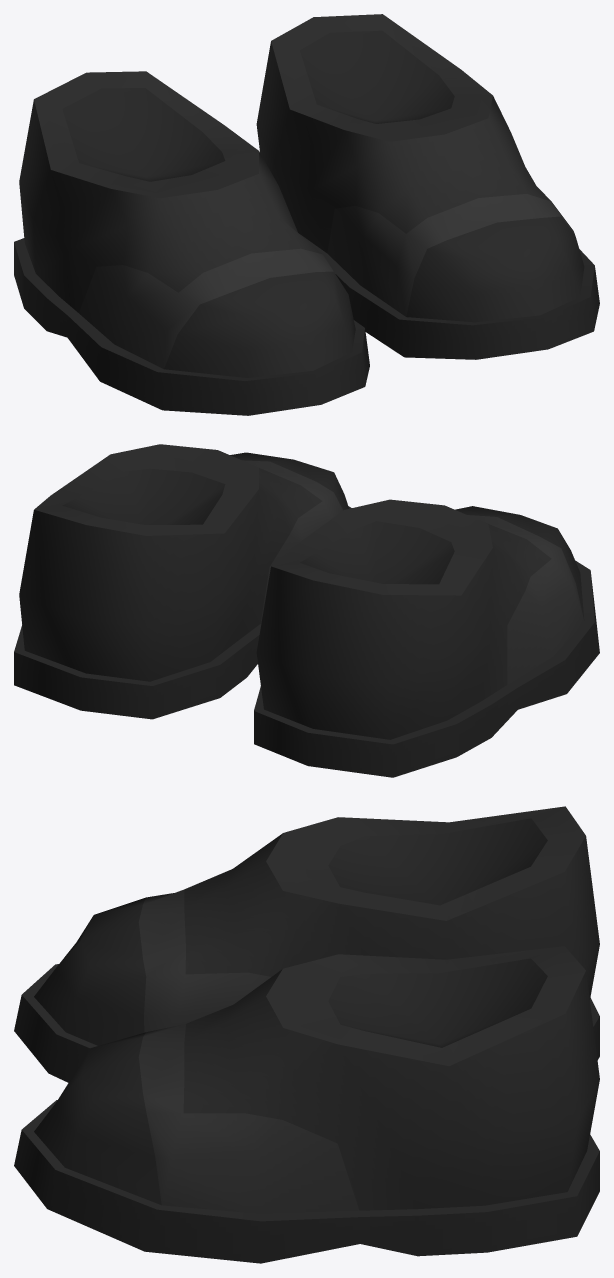
File: Shoes_16.fbx
The picture shows the model from 3 angles, top to bottom: view 1: azimuth 30°, elevation 25°; view 2: azimuth 150°, elevation 25°; view 3: azimuth 270°, elevation 25°; orthographic projection. The views are drawn at different scales.
Parts seen in each view (by area): view 1: Shoes_16; view 2: Shoes_16; view 3: Shoes_16.
Boxes of the visible parts, x1=… form: Shoes_16: x1=14, y1=14, x2=599, y2=415; Shoes_16: x1=14, y1=444, x2=599, y2=777; Shoes_16: x1=14, y1=806, x2=599, y2=1263.
Bounding box in the file's own units: 40.92 × 15.25 × 36.52.
